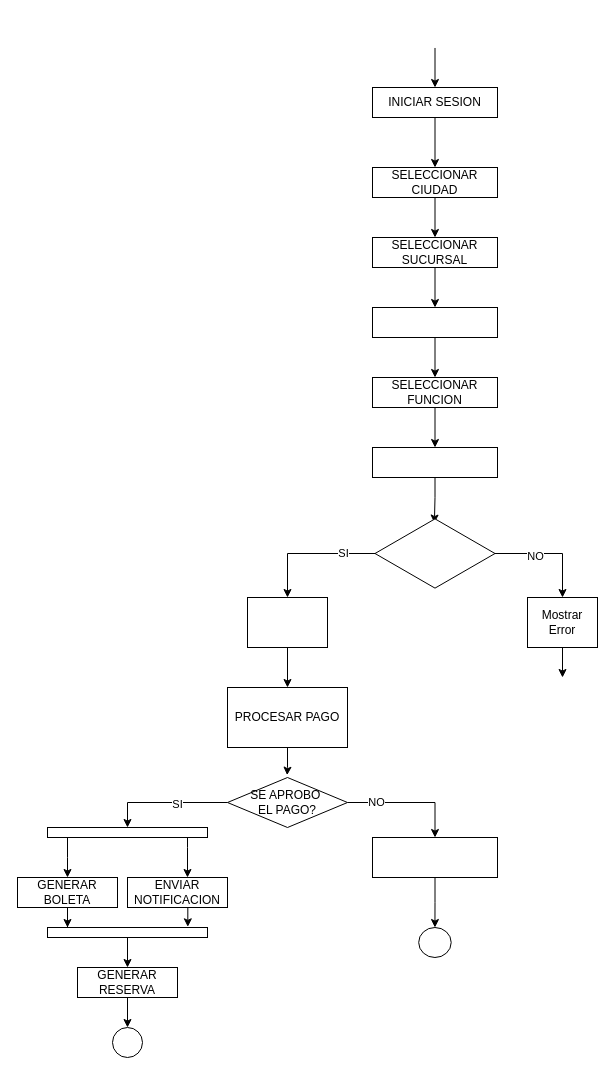
The diagram is 615 pixels wide and 1075 high, and some of its shapes have lost their labels. The shapes that lost their labels are listed below. From the top down, each one's box as (x1, y1, x2, y2) in pixels, then its label:
(372, 306, 498, 338): SELECCIONAR PELICULA
(372, 446, 498, 478): SELECCIONAR ASIENTOS
(374, 516, 495, 590): ASIENTO DISPONIBLE?
(246, 596, 328, 648): INGRESAR TARJETA
(372, 836, 498, 878): SE LIBERAN LOS ASIENTOS
